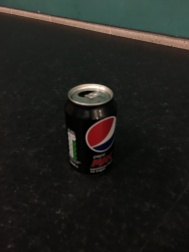can_black: (59, 78, 129, 181)
